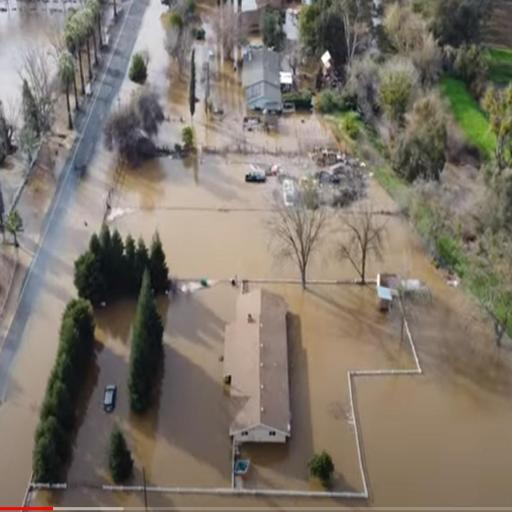flood: (147, 175, 512, 508), (30, 152, 299, 507), (0, 141, 117, 506), (240, 284, 415, 492), (0, 131, 75, 347), (209, 76, 336, 151), (134, 0, 190, 144), (0, 9, 64, 126), (308, 208, 358, 280), (194, 2, 215, 148), (0, 0, 83, 10), (120, 75, 136, 103)
house: (224, 282, 294, 451), (241, 44, 285, 113)
